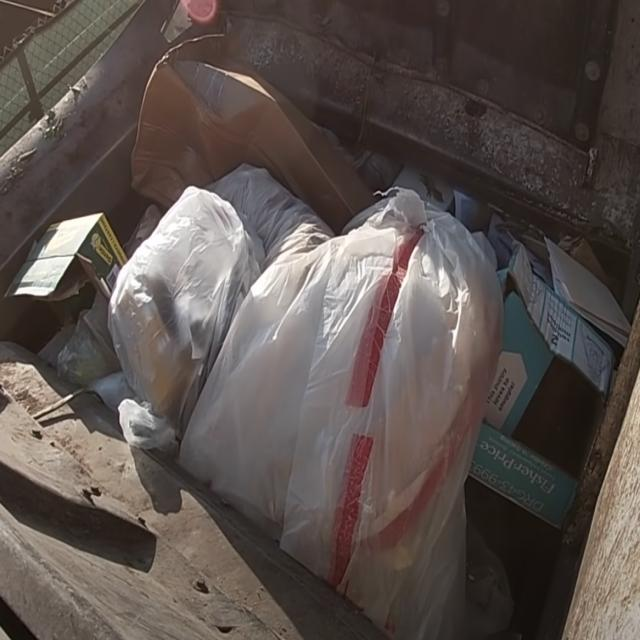bag: (117, 190, 506, 609)
cardboard: (114, 21, 378, 202), (503, 213, 636, 570), (8, 194, 128, 376)
